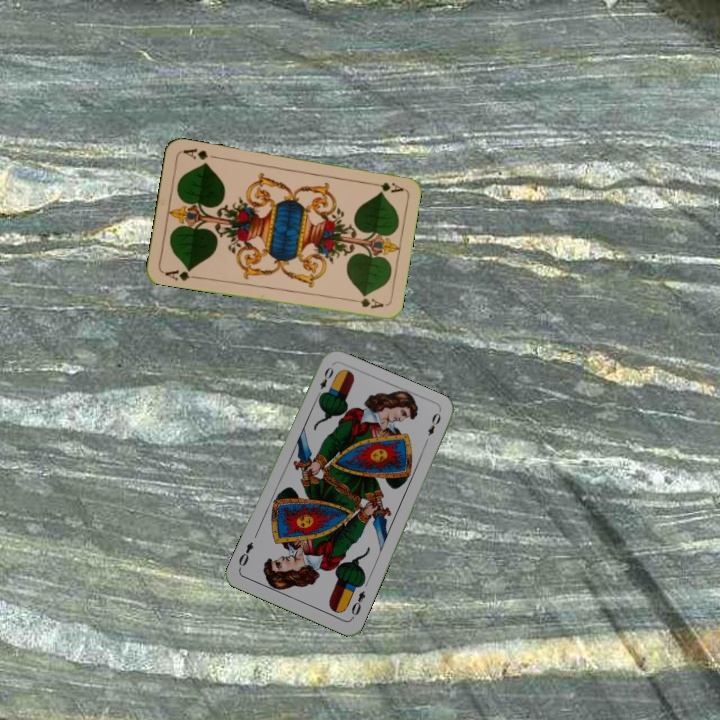EO: (313, 363, 336, 401), (347, 587, 368, 621)
GA: (161, 264, 200, 283), (365, 178, 406, 195)
